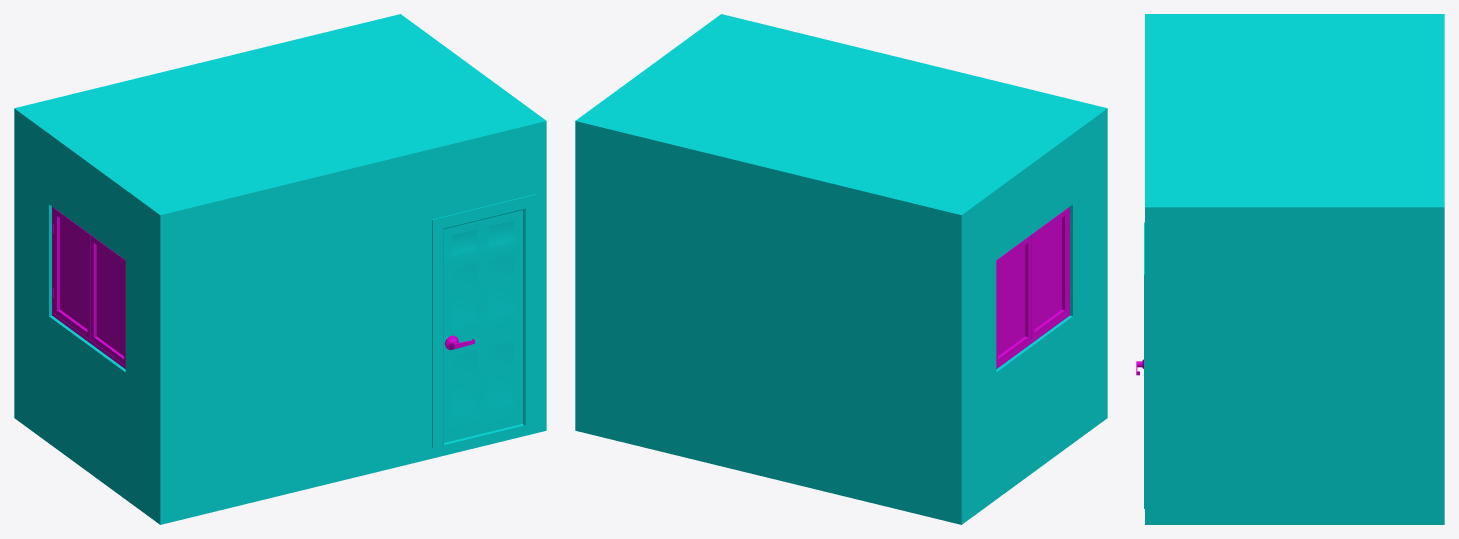
File: Geo_Bedroom.fbx
3 renders of one model, left to right at view 1: azimuth 30°, elevation 25°; view 2: azimuth 150°, elevation 25°; view 3: azimuth 270°, elevation 25°, orthographic. The views are drawn at different scales.
Parts seen in each view (by area): view 1: Geo_Bedroom; view 2: Geo_Bedroom; view 3: Geo_Bedroom.
Boxes of the visible parts, x1,y1,x2,y2 form: Geo_Bedroom: (14,14,546,524); Geo_Bedroom: (575,14,1107,524); Geo_Bedroom: (1136,14,1444,524).
Size of what is drawn, in the model's own units: 379 by 290 by 255.
